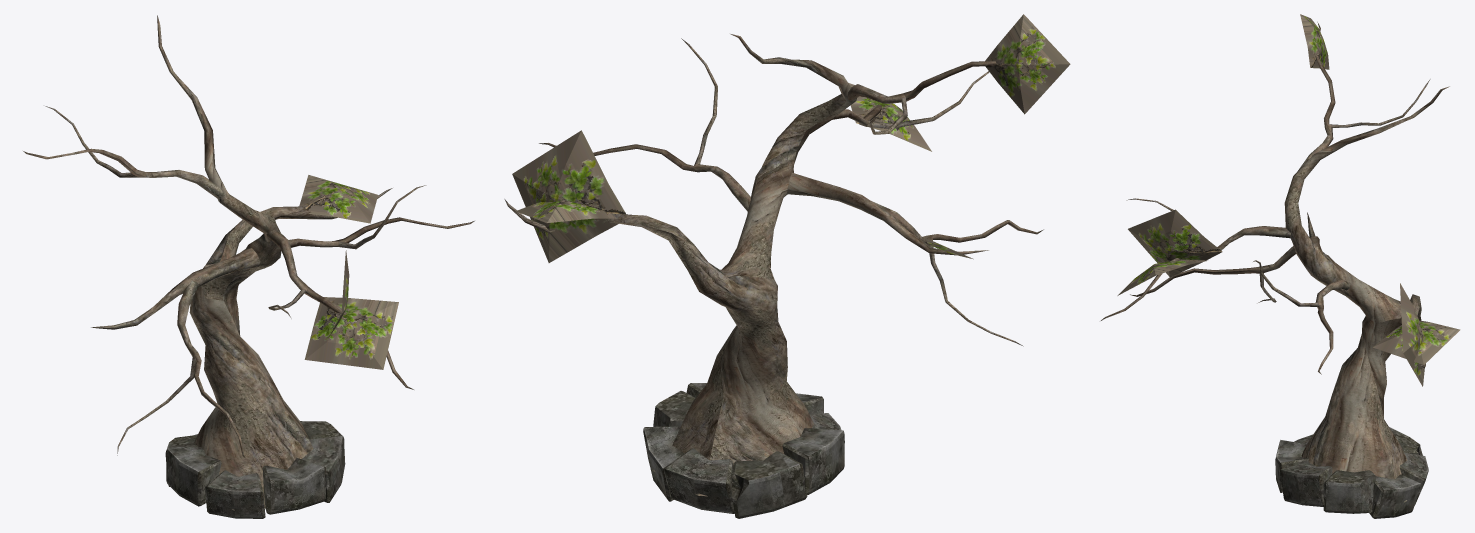
File: TW2_9_ADDONS_12_1-transformed.glb
The picture shows the model from 3 angles, left to right: view 1: azimuth 30°, elevation 25°; view 2: azimuth 150°, elevation 25°; view 3: azimuth 270°, elevation 25°; orthographic projection. The views are drawn at different scales.
Parts seen in each view (by area): view 1: default; view 2: default; view 3: default.
Boxes of the visible parts, x1=… form: default: x1=23, y1=15, x2=474, y2=518; default: x1=504, y1=14, x2=1070, y2=518; default: x1=1101, y1=14, x2=1460, y2=518.
Size of the model in its own units: 5.43 by 5 by 4.16.
Materials: 3 (3 with a texture image).
